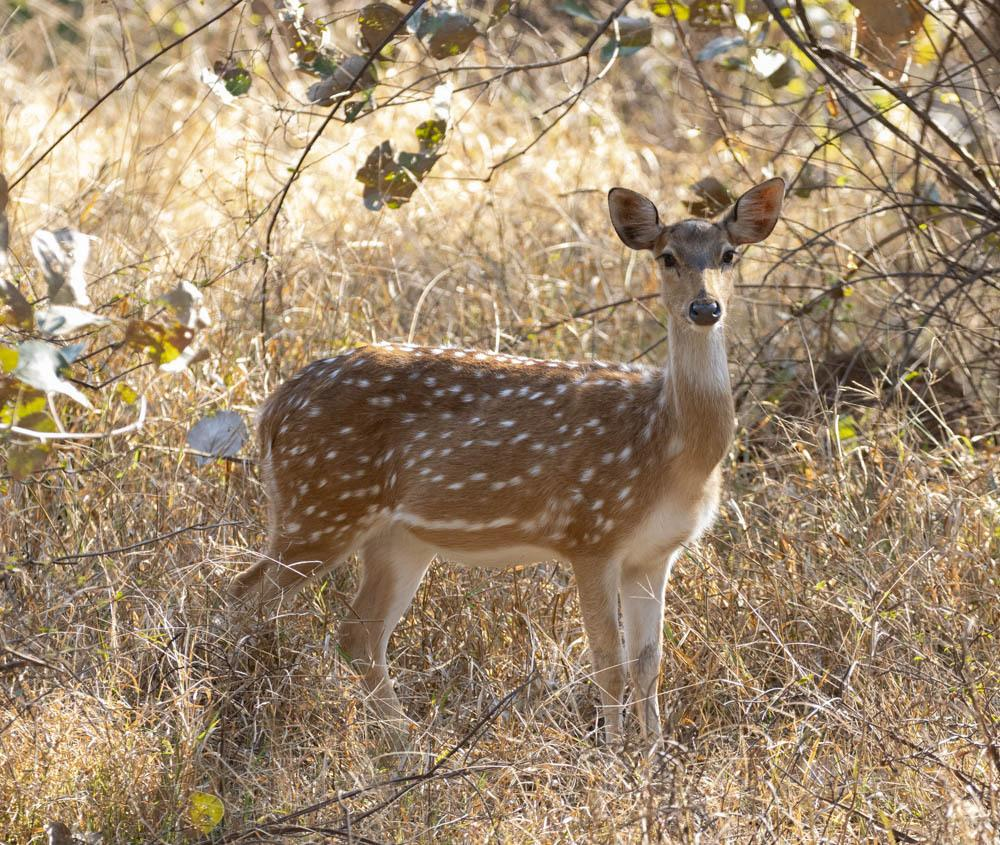Deer: (232, 179, 784, 740)
